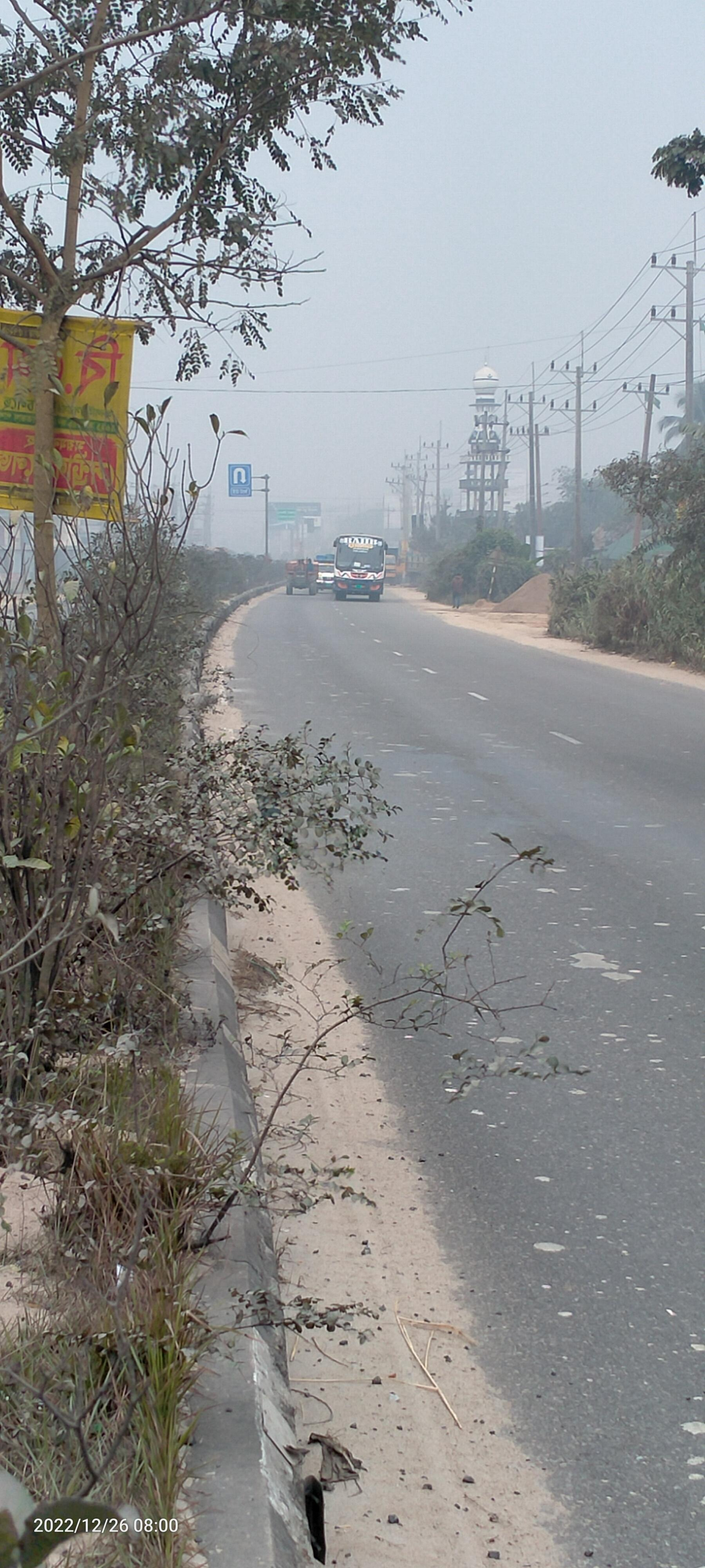Bus: (328, 533, 392, 606)
Truck: (280, 553, 321, 600)
